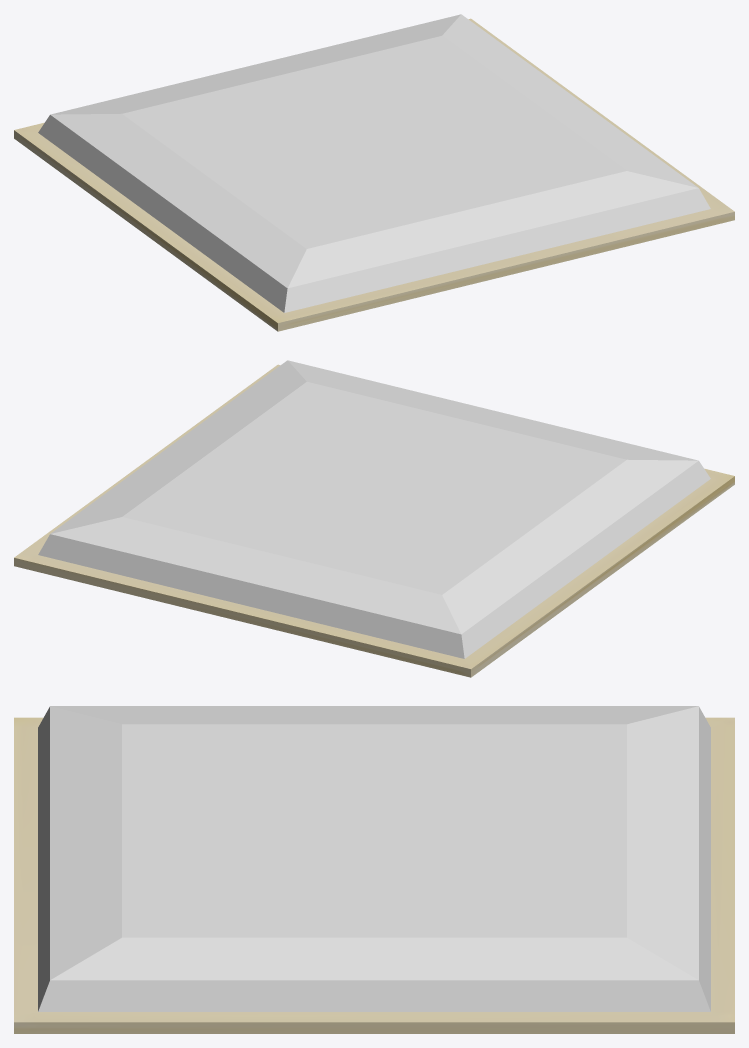
File: cloth_2.fbx
3 renders of one model, top to bottom at view 1: azimuth 30°, elevation 25°; view 2: azimuth 150°, elevation 25°; view 3: azimuth 270°, elevation 25°, orthographic. The views are drawn at different scales.
Parts seen in each view (by area): view 1: Package; view 2: Package; view 3: Package.
Boxes of the visible parts, left/top/right/bottom form: Package: left=14, top=14, right=734, bottom=331; Package: left=14, top=360, right=734, bottom=677; Package: left=14, top=706, right=734, bottom=1033.
Bounding box in the file's own units: 11.43 × 0.8834 × 11.43.
2 materials, 1 textured.
